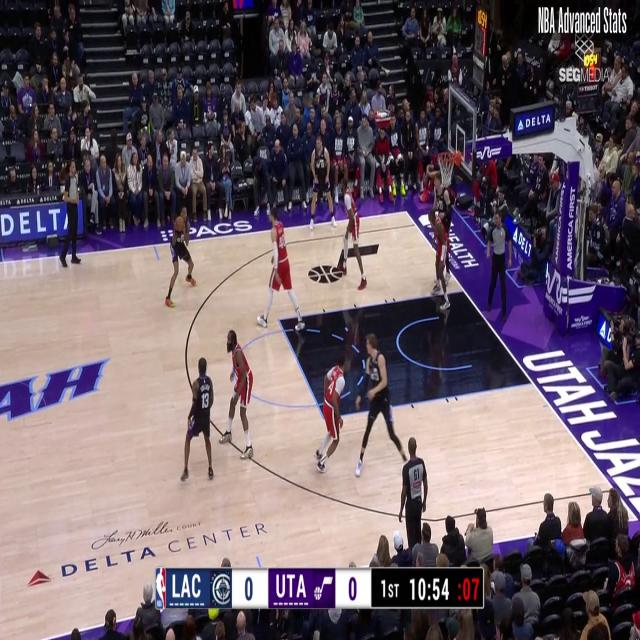ball: (174, 212, 186, 235)
judge: (399, 440, 428, 530), (487, 211, 510, 317), (60, 161, 82, 266)
player: (355, 332, 406, 471), (260, 209, 307, 336), (224, 327, 259, 461), (182, 354, 215, 484), (337, 182, 372, 299), (317, 353, 349, 475), (166, 214, 196, 308), (428, 206, 453, 315), (309, 134, 332, 233)
